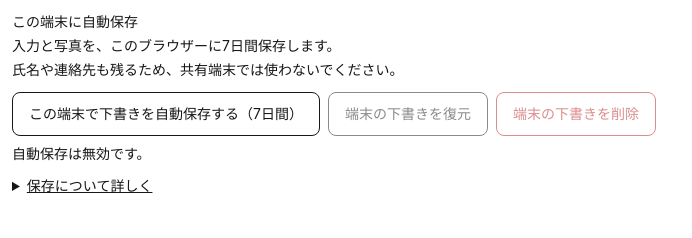
Test case: opt-in autosaves, then saves latest input and commits the fence before allowing transport
This screenshot has width=692, height=238.
Click the button "この端末で下書きを自動保存する（7日間）".
click(166, 114)  # box x1=12 y1=92 x2=320 y2=136
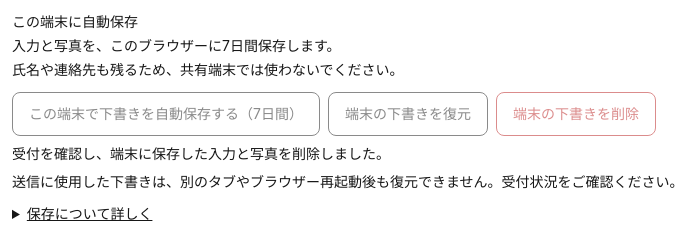
Expected: the button "端末の下書きを復元" is disabled, x1=328 y1=92 x2=488 y2=136
Expected: the text "受付を確認し、端末に保存した入力と写真を削除しました。" is shown, x1=12 y1=145 x2=390 y2=162
